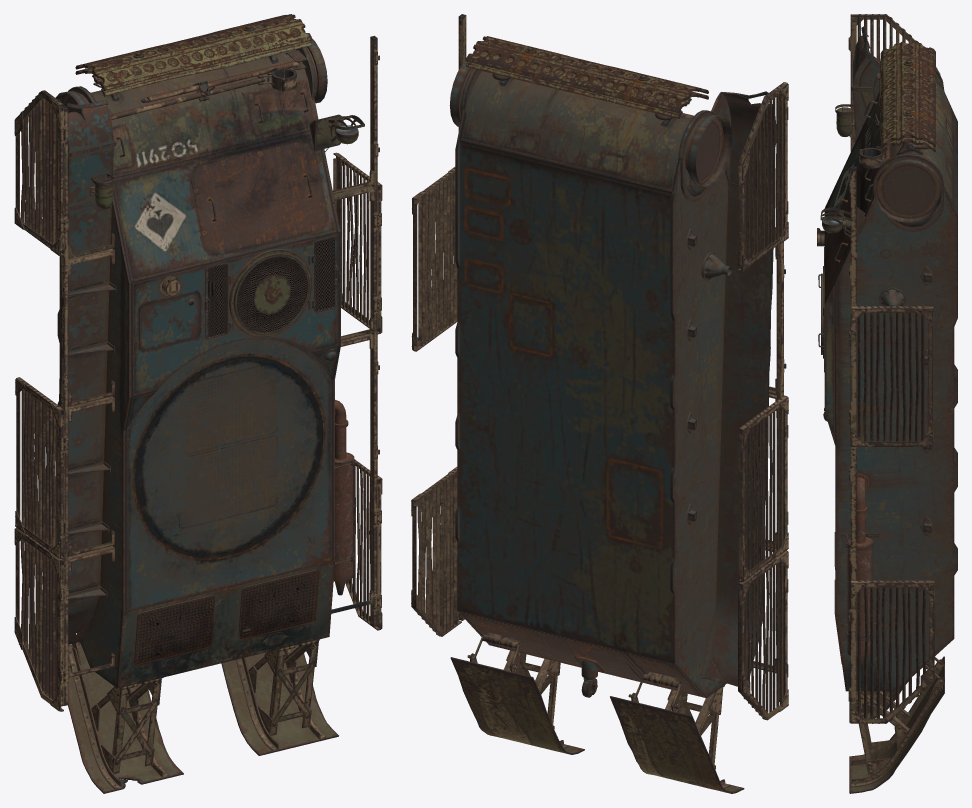
The model's file is Hull_02.glb.
3 renders of one model, left to right at view 1: azimuth 30°, elevation 25°; view 2: azimuth 150°, elevation 25°; view 3: azimuth 270°, elevation 25°, orthographic. The views are drawn at different scales.
Visible parts, largest first — view 1: set_0_group_1, set_0_group_0; view 2: set_0_group_1, set_0_group_0; view 3: set_0_group_1, set_0_group_0.
Boxes of the visible parts, x1,y1,x2,y2 form: set_0_group_1: [55, 38, 364, 688]; set_0_group_0: [14, 14, 382, 793]; set_0_group_1: [449, 61, 776, 698]; set_0_group_0: [411, 14, 788, 793]; set_0_group_1: [817, 26, 957, 691]; set_0_group_0: [848, 14, 944, 793].
Size of the model in its own units: 2.67 by 5.49 by 1.07.
Materials: 2 (2 with a texture image).
